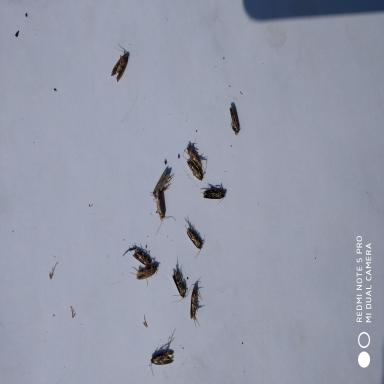pbw: (107, 43, 131, 81), (171, 264, 189, 304), (132, 260, 160, 284), (154, 189, 172, 225), (189, 286, 205, 326), (224, 103, 242, 137), (153, 168, 171, 200), (182, 155, 205, 180), (148, 348, 176, 368), (130, 244, 153, 268), (184, 225, 205, 249), (185, 142, 204, 168), (200, 184, 227, 202)
